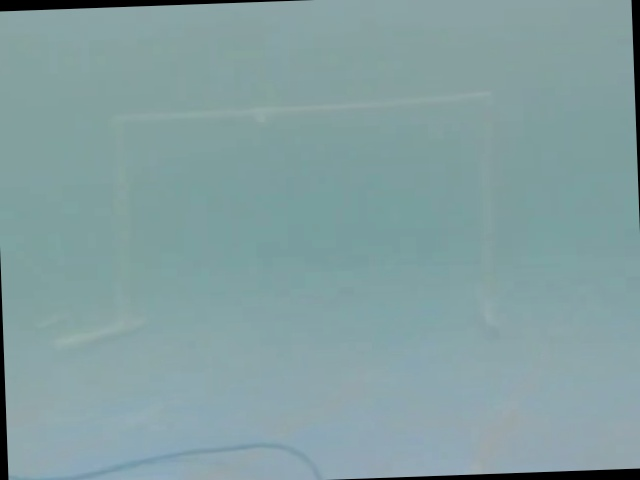gate: (39, 89, 557, 387)
